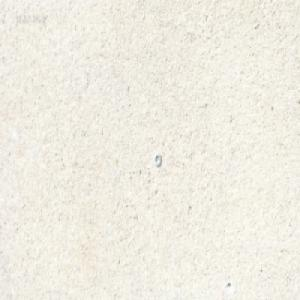Washer: (154, 152, 162, 167)
